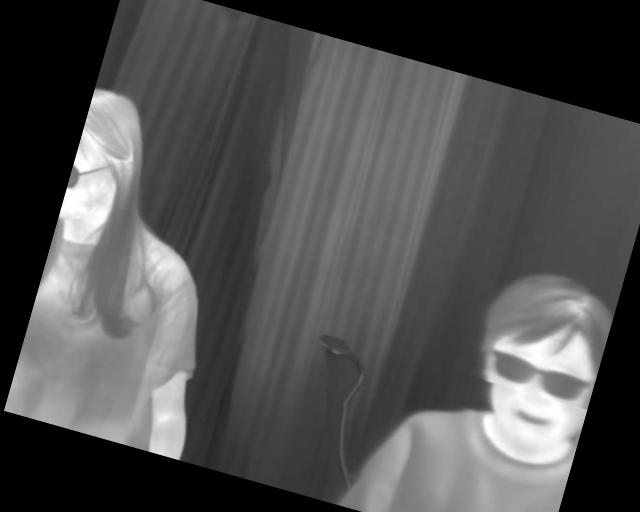face: (456, 260, 619, 460)
